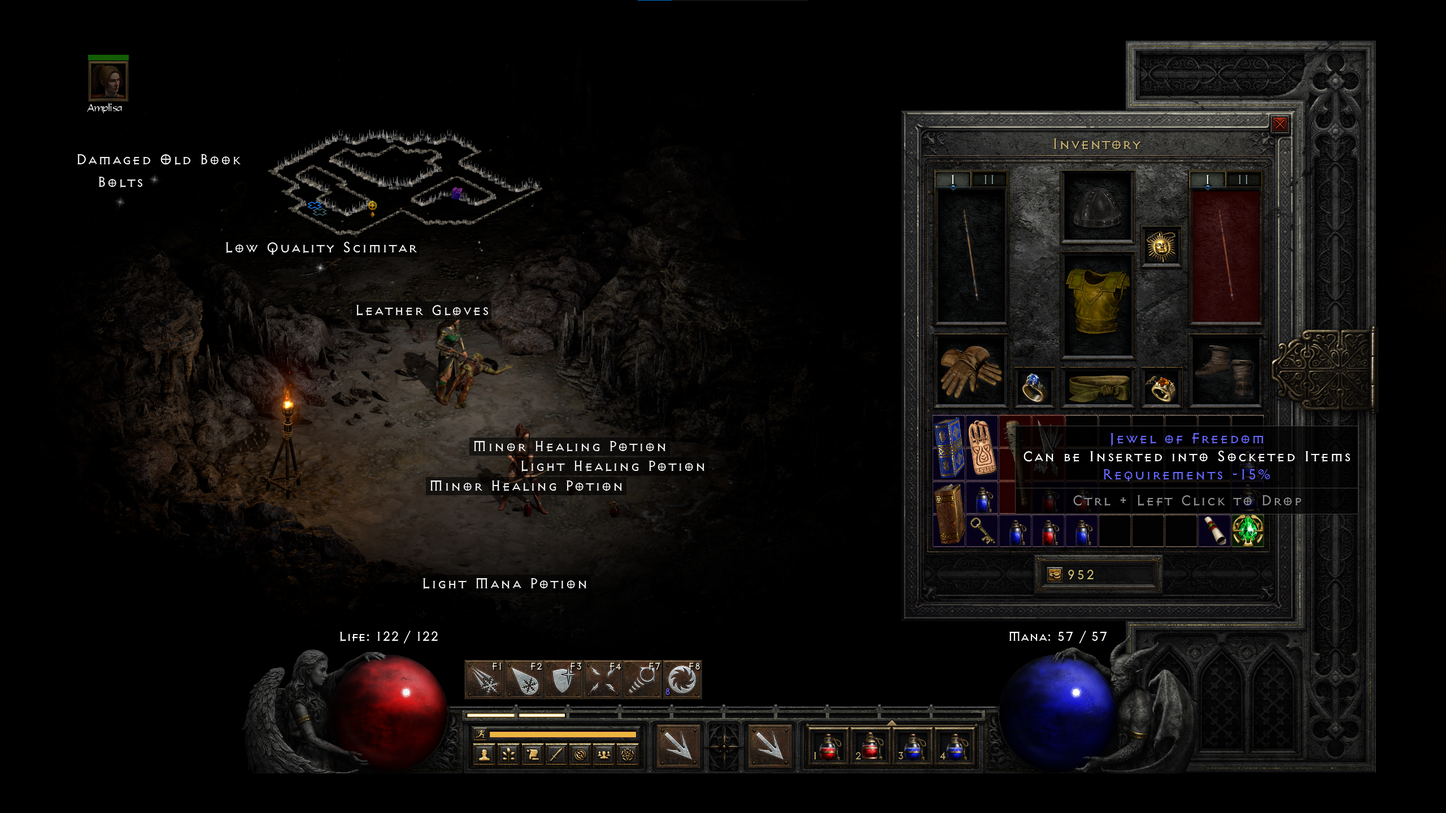tooltip: (1014, 426, 1358, 514)
